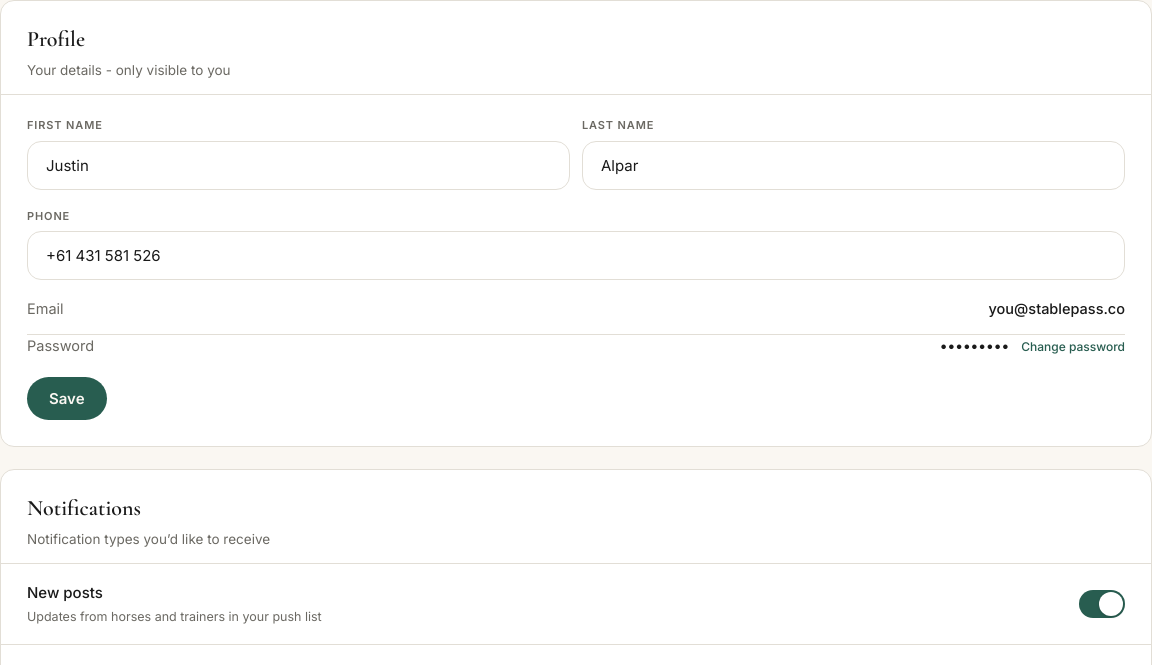
Test: AccountForms › Save PATCHes /api/me with the edited first/last name and phone
Replace the text in the field labelled "First name" with "Just" at x=298, y=165, box left=27, top=141, right=570, bottom=190
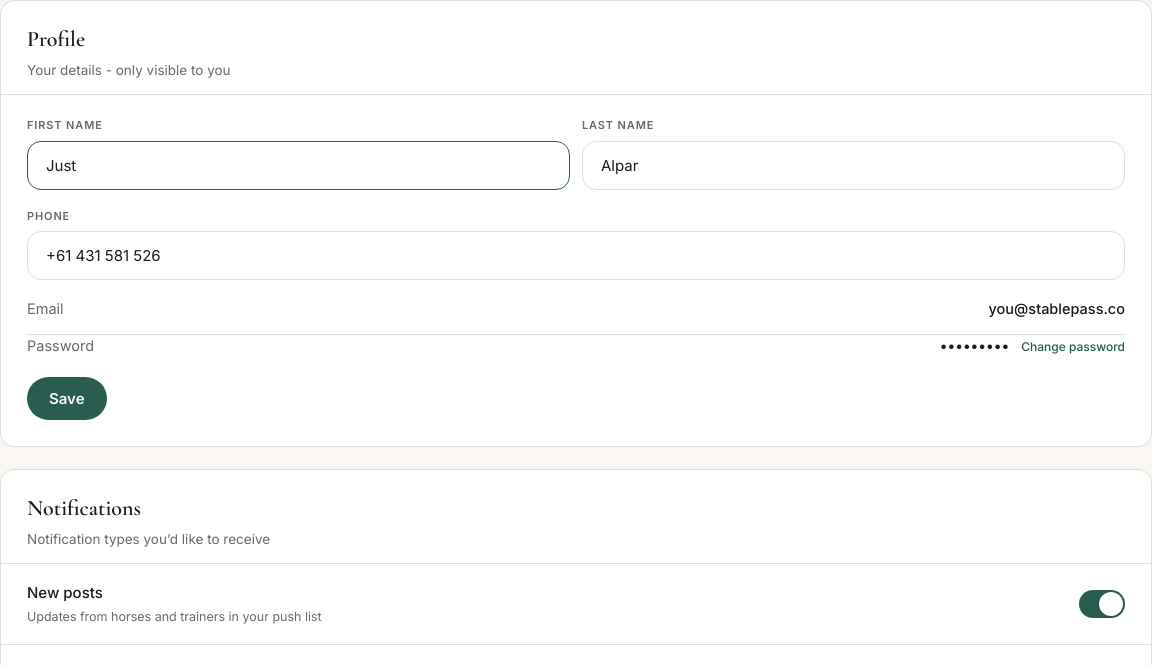
Replace the text in the field labelled "Last name" with "A." at x=854, y=165, box left=582, top=141, right=1125, bottom=190
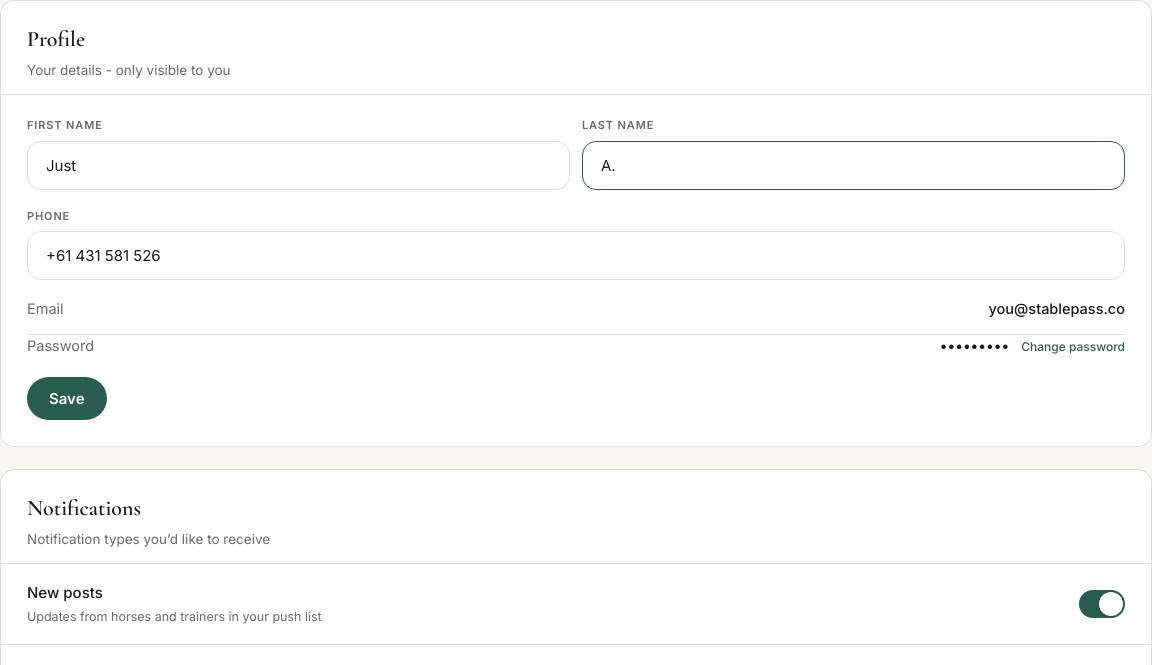
Replace the text in the field labelled "Phone" with "+61 400 000 000" at x=576, y=256, box left=27, top=231, right=1125, bottom=280
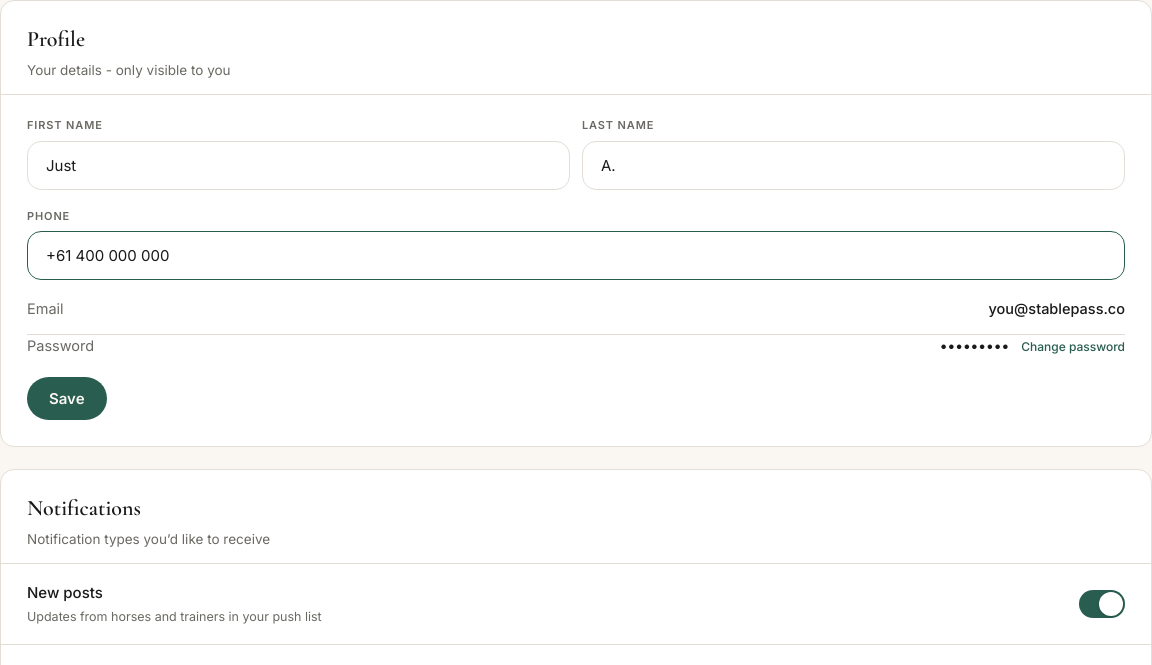
Click the button "Save" at x=67, y=398, box left=27, top=377, right=106, bottom=420
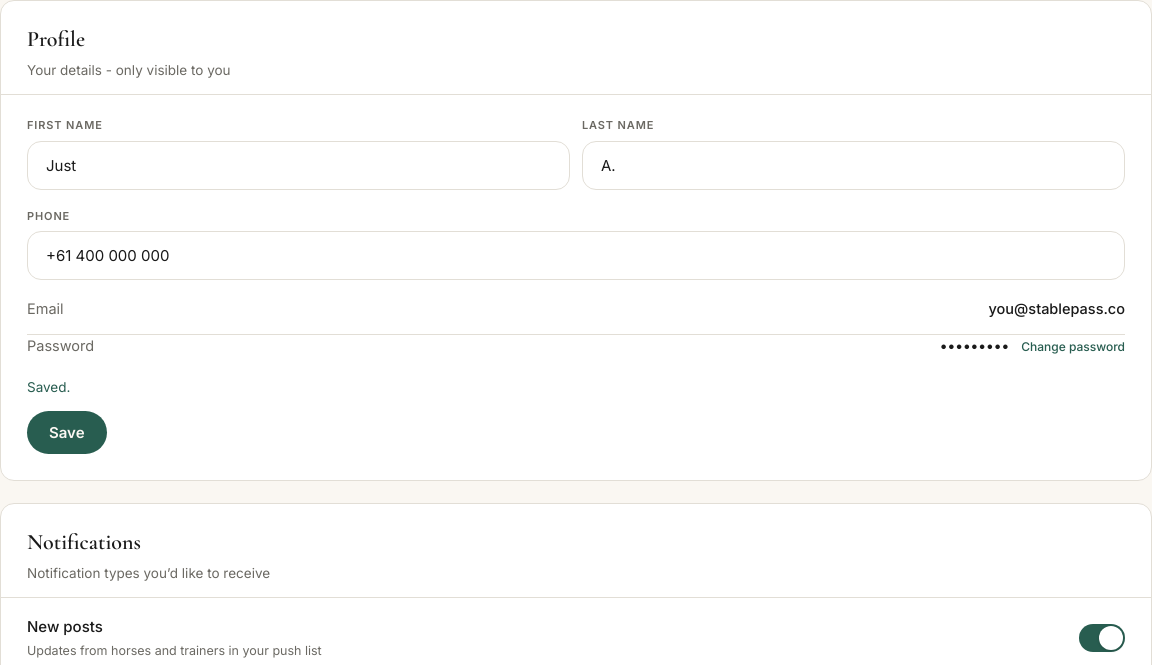
Expected: the text "Saved." is shown, left=27, top=379, right=70, bottom=395
